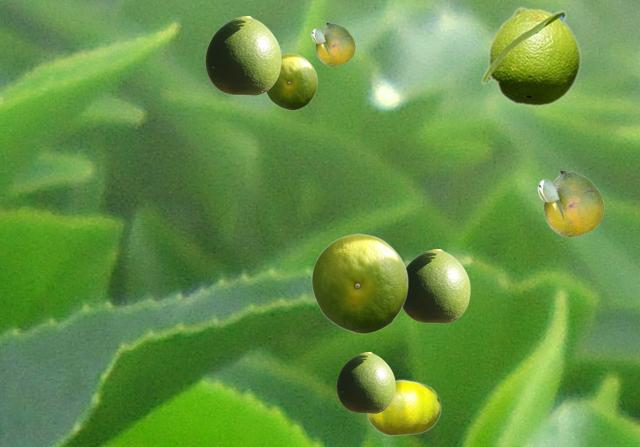dalandan: (480, 6, 581, 106), (311, 233, 407, 333), (205, 16, 280, 94), (403, 249, 469, 322), (537, 171, 603, 236), (366, 379, 440, 435), (336, 352, 394, 412), (266, 53, 316, 109), (311, 23, 354, 65)
